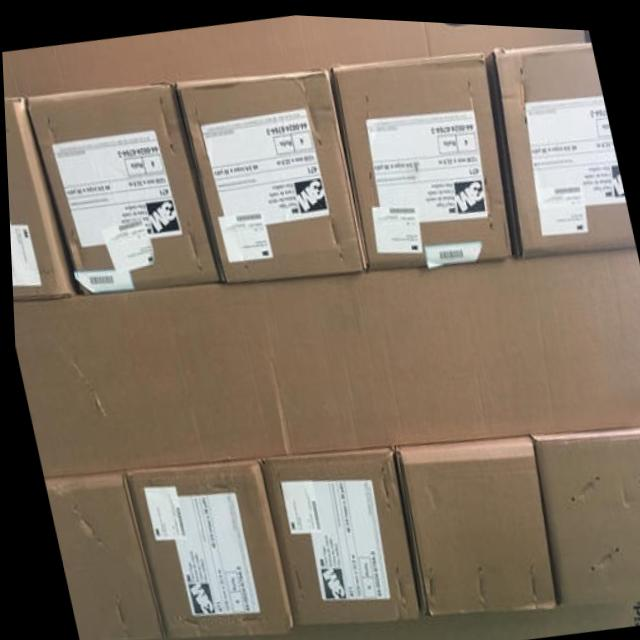box: (11, 239, 640, 476), (2, 12, 585, 97), (24, 79, 218, 295), (175, 65, 363, 278), (331, 47, 510, 265), (483, 32, 633, 249), (390, 426, 551, 620), (120, 456, 290, 638), (255, 441, 415, 622), (86, 597, 640, 640), (527, 419, 640, 598), (39, 472, 159, 640), (3, 96, 77, 300)
